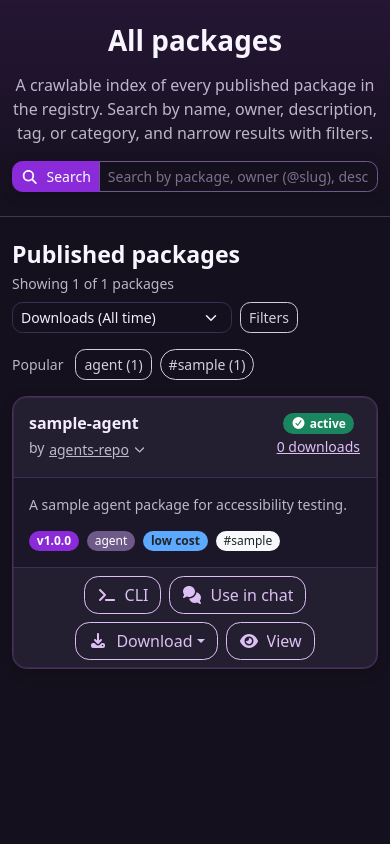
Scenario: PackagesIndexPage accessibility › has no detectable accessibility violations
The image size is (390, 844).
Expected: the heading "sample-agent" is shown, [29, 413, 147, 433]
What coordinates should you click on to do the following:
click the button "Filters"
I would click on:
 (269, 318)
Its box is [240, 302, 298, 333].
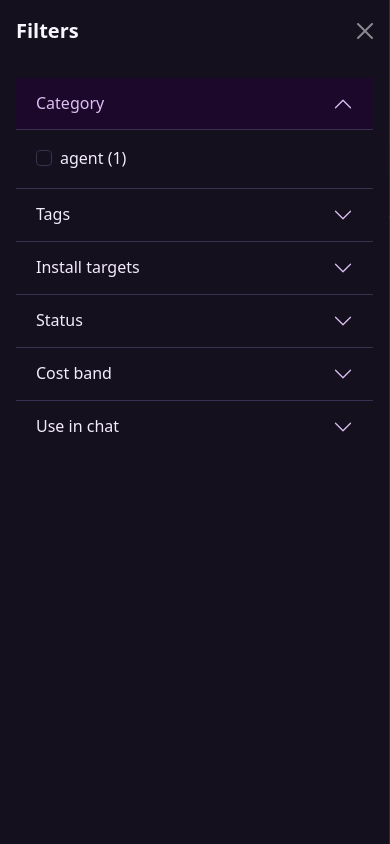
Expected: the checkbox with id "offcanvas-category-agent" is shown, [36, 150, 52, 166]
